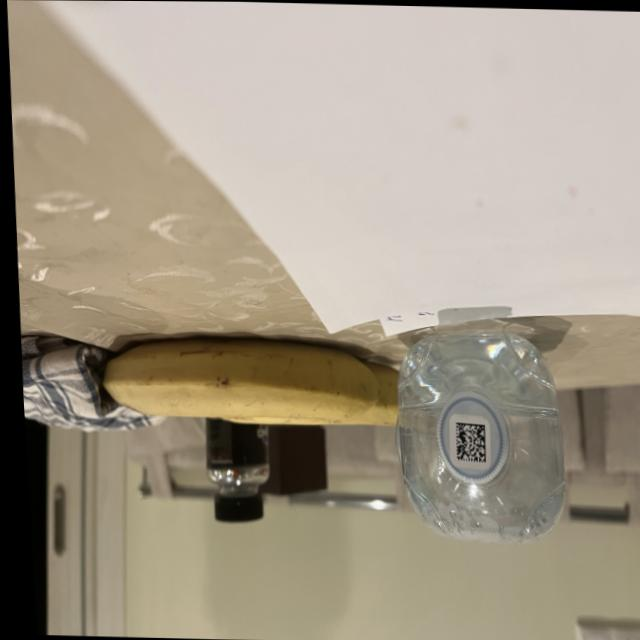datamatrix: (448, 420, 481, 462)
